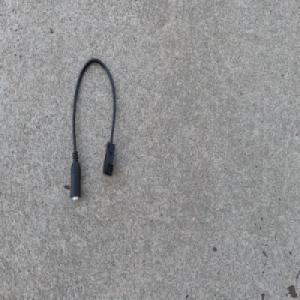Wire: (69, 56, 117, 205)
